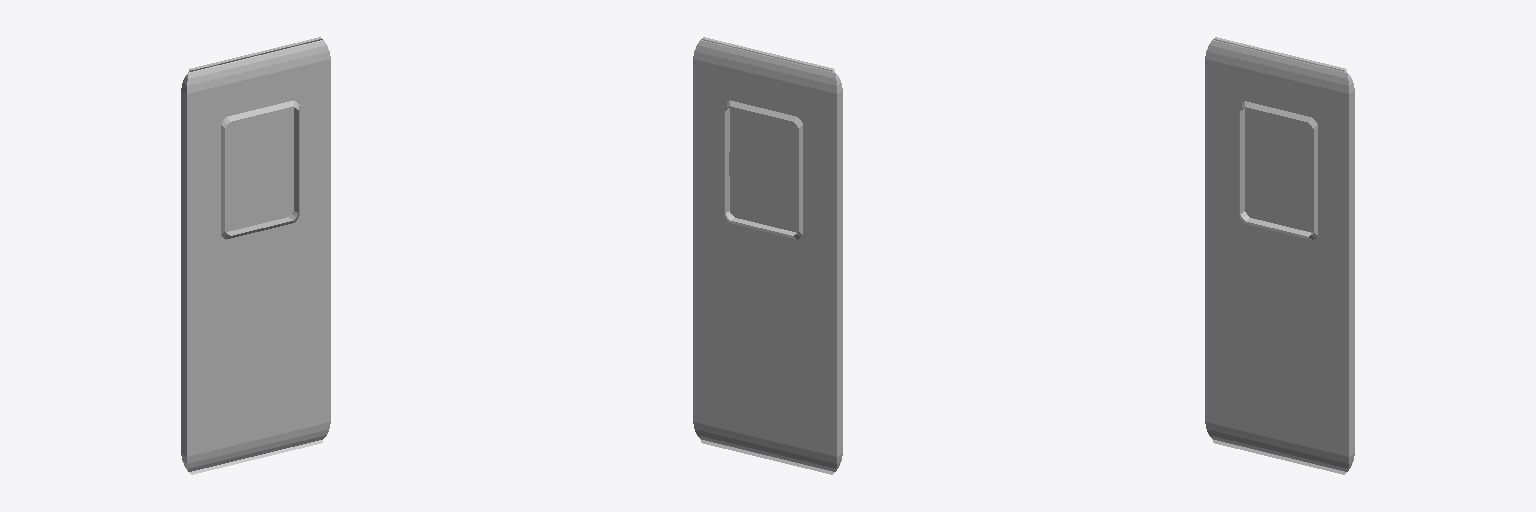
File: inner_door.obj
3 renders of one model, left to right at view 1: azimuth 30°, elevation 25°; view 2: azimuth 150°, elevation 25°; view 3: azimuth 330°, elevation 25°, orthographic.
Visible parts, largest first — view 1: Box051_Untitled.111, Plane001_Untitled.140; view 2: Box051_Untitled.111, Plane001_Untitled.140; view 3: Box051_Untitled.111, Plane001_Untitled.140.
Part boxes in pixels (x1,y1,x2,y2): Box051_Untitled.111: (181,37,330,474); Plane001_Untitled.140: (225,107,293,231); Box051_Untitled.111: (693,37,842,474); Plane001_Untitled.140: (729,107,798,232); Box051_Untitled.111: (1205,37,1354,474); Plane001_Untitled.140: (1245,107,1313,232).
Bounding box in the file's own units: 0.6873 × 1.84 × 0.0758.